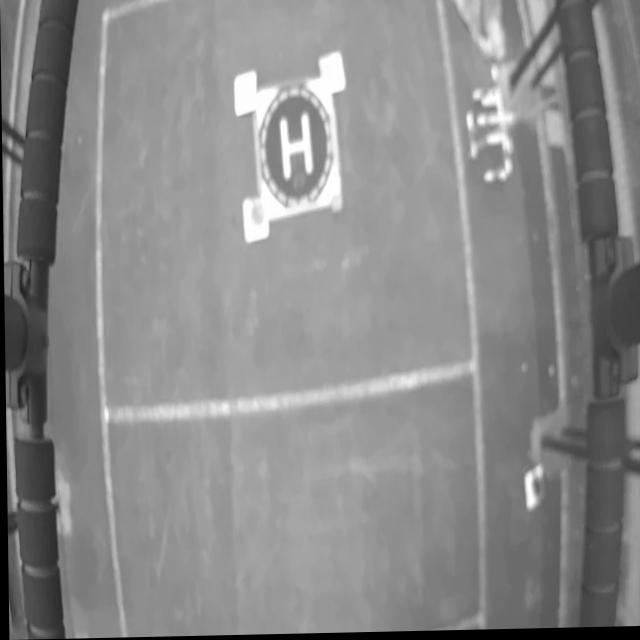Helipad: (278, 112, 314, 184)
